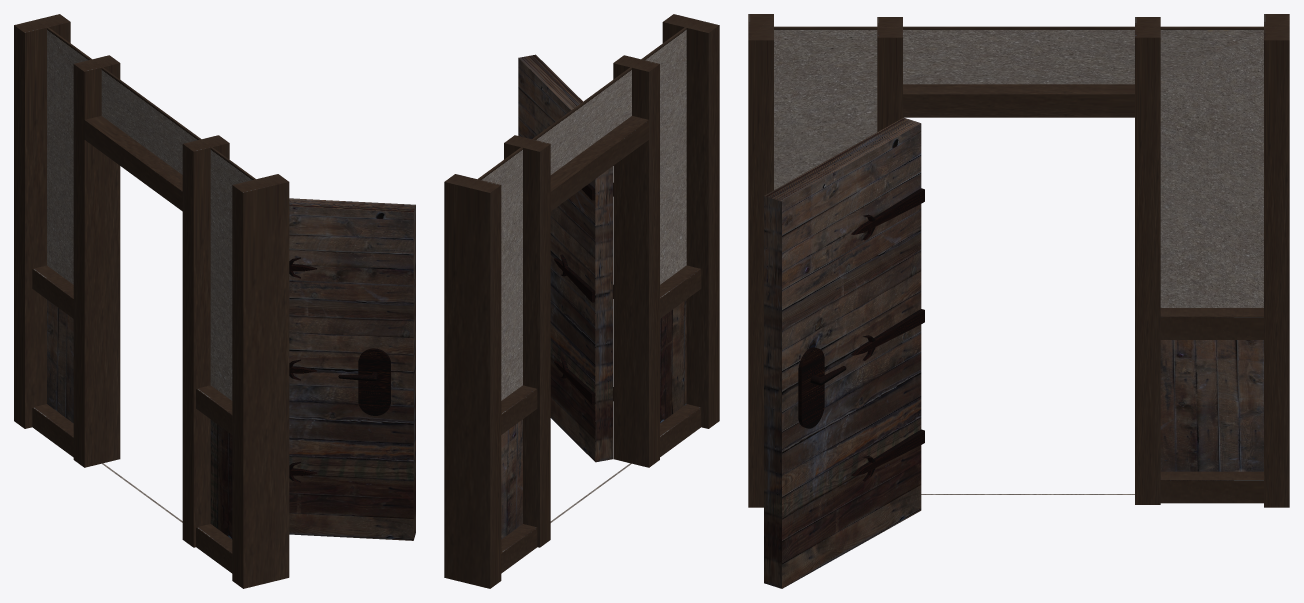
File: OutdoorArchitecture_BasicWall02_Door01_OpenDoor_BothEdges_BShortt.fbx
3 views of the same model, side by side, from view 1: azimuth 30°, elevation 25°; view 2: azimuth 150°, elevation 25°; view 3: azimuth 270°, elevation 25° (orthographic). The views are drawn at different scales.
Parts seen in each view (by area): view 1: OutdoorArchitecture_BasicWall02_Door01_OpenDoor_BothEdges_BS; view 2: OutdoorArchitecture_BasicWall02_Door01_OpenDoor_BothEdges_BS; view 3: OutdoorArchitecture_BasicWall02_Door01_OpenDoor_BothEdges_BS.
Part boxes in pixels (left/top/right/bottom): OutdoorArchitecture_BasicWall02_Door01_OpenDoor_BothEdges_BS: left=14, top=14, right=415, bottom=588; OutdoorArchitecture_BasicWall02_Door01_OpenDoor_BothEdges_BS: left=444, top=14, right=719, bottom=588; OutdoorArchitecture_BasicWall02_Door01_OpenDoor_BothEdges_BS: left=748, top=14, right=1289, bottom=588.
Size of the model in its own units: 148 by 300 by 315.
